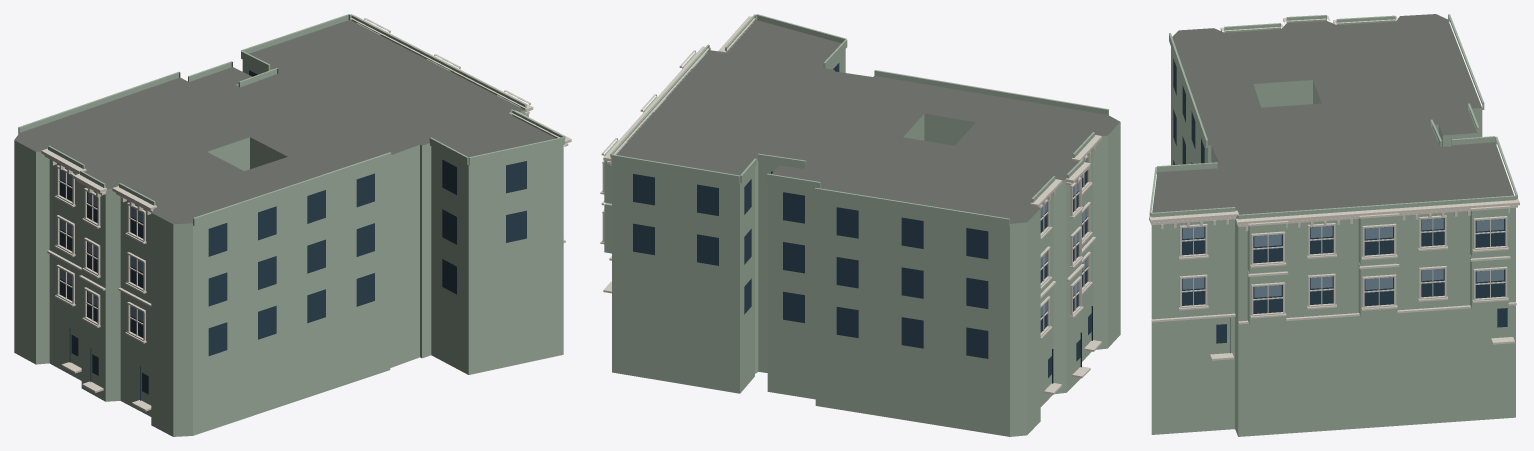
3 views of the same model, side by side, from view 1: azimuth 30°, elevation 25°; view 2: azimuth 150°, elevation 25°; view 3: azimuth 270°, elevation 25° (orthographic). The views are drawn at different scales.
Parts seen in each view (by area): view 1: Footprint 0 / surface 2, Footprint 0 / surface 1, Inset glazing, Facade bay volumes, Cornices and window frames, Sky reflection panels; view 2: Footprint 0 / surface 2, Footprint 0 / surface 1, Inset glazing, Facade bay volumes, Cornices and window frames; view 3: Footprint 0 / surface 2, Footprint 0 / surface 1, Cornices and window frames, Facade bay volumes, Inset glazing, Sky reflection panels.
Part boxes in pixels (x1,y1,x2,y2): Footprint 0 / surface 2: [14, 60, 563, 436]; Footprint 0 / surface 1: [14, 20, 555, 224]; Inset glazing: [59, 70, 526, 394]; Facade bay volumes: [18, 14, 565, 225]; Cornices and window frames: [41, 15, 571, 411]; Sky reflection panels: [60, 169, 143, 321]; Footprint 0 / surface 2: [612, 49, 1120, 436]; Footprint 0 / surface 1: [616, 20, 1119, 223]; Inset glazing: [633, 63, 1091, 377]; Facade bay volumes: [604, 14, 1108, 253]; Cornices and window frames: [600, 16, 1101, 394]; Footprint 0 / surface 2: [1151, 47, 1515, 436]; Footprint 0 / surface 1: [1152, 14, 1513, 218]; Cornices and window frames: [1149, 15, 1519, 360]; Facade bay volumes: [1149, 14, 1517, 324]; Inset glazing: [1173, 58, 1507, 343]; Sky reflection panels: [1182, 218, 1503, 297].
Bounding box in the file's own units: 30.29 × 14.79 × 22.37.
